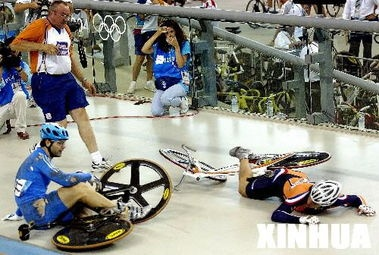falling: (8, 114, 138, 238)
